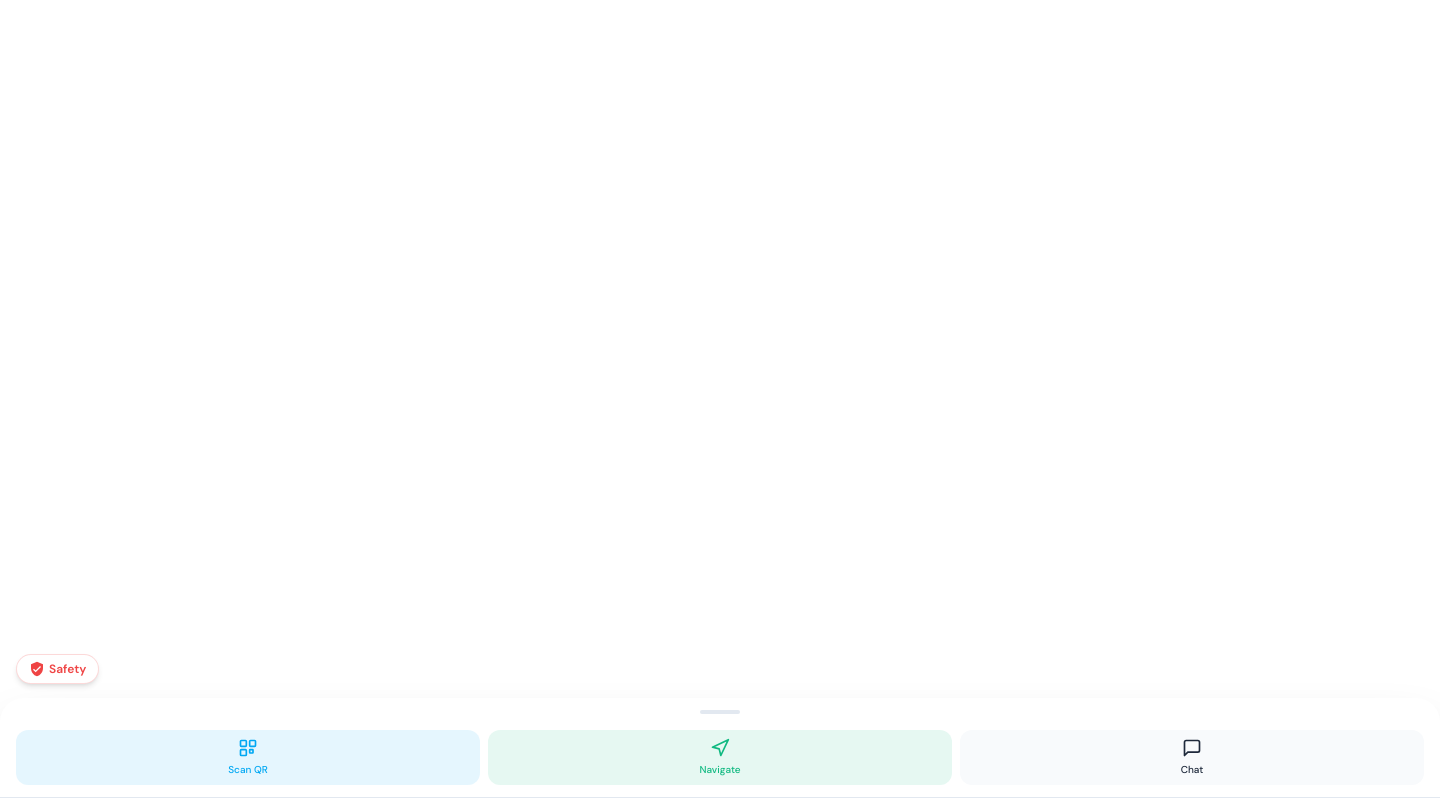
JourneyDrawer › shows vehicle info for rider view when expanded
The width and height of the screenshot is (1440, 806).
Note: Click drag handle to expand
Click the element with class "cursor-grab" at (720,712), box [700,710,740,714]
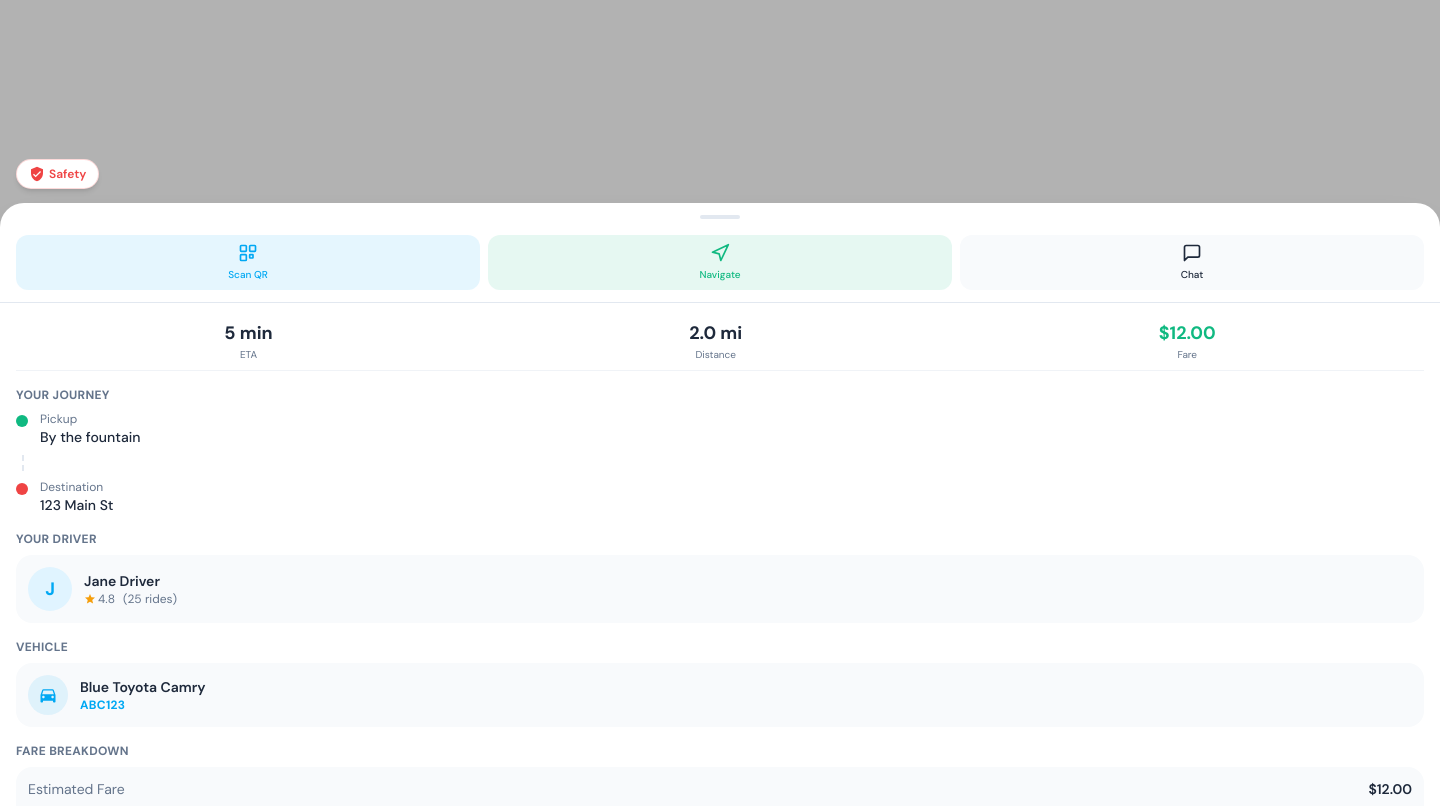
Expected: the heading "Vehicle" is shown, [16,638,68,654]
Expected: the text "Blue Toyota Camry" is shown, [80,676,206,696]
Expected: the text "ABC123" is shown, [80,696,125,712]
